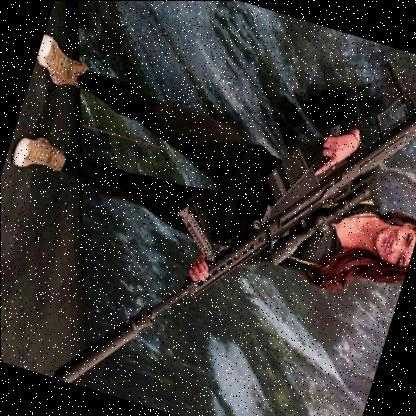rifle: (46, 0, 416, 416)
